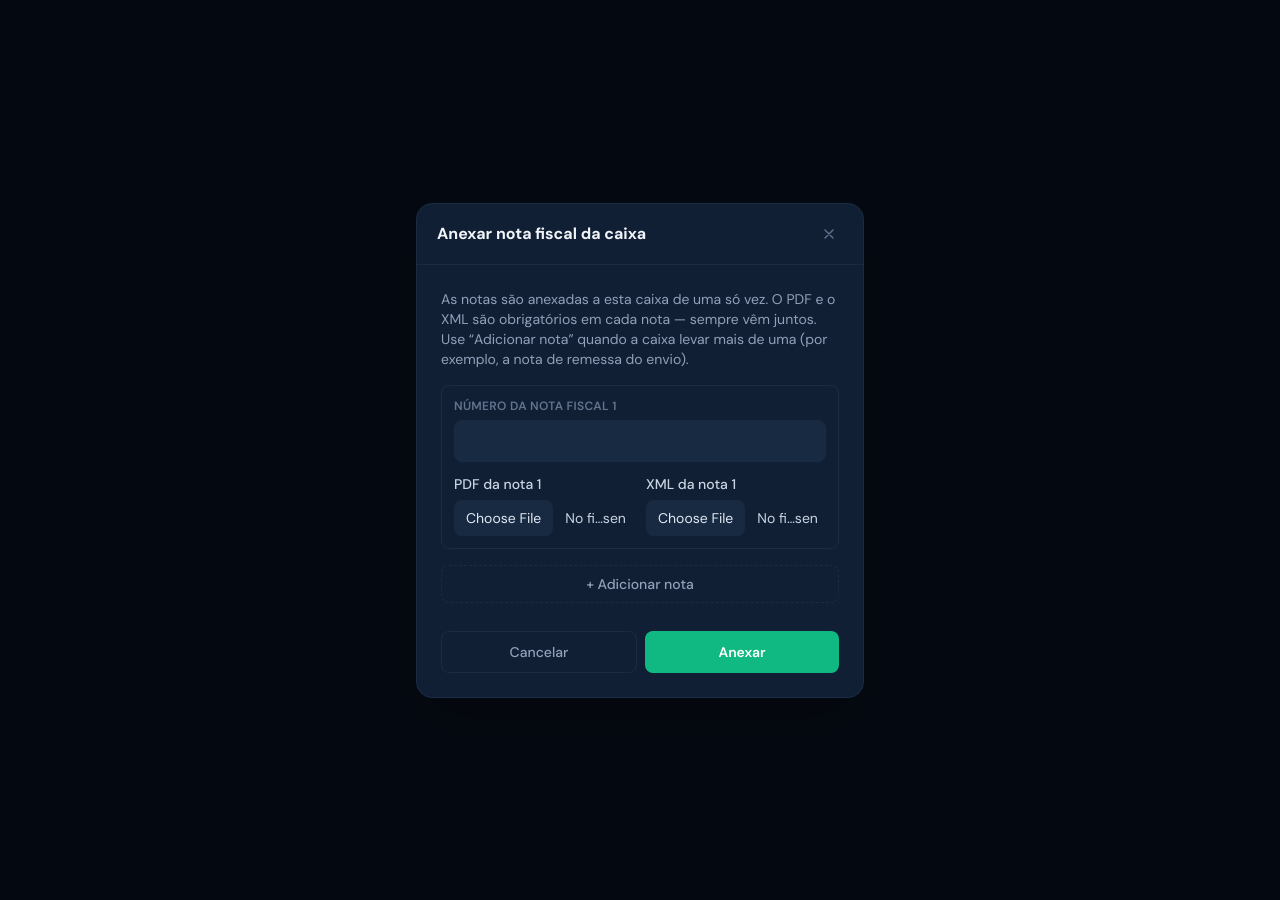
Test case: NotaFiscalCaixaModal › o + acrescenta um bloco e o X tira
What coordinates should you click on to do the following:
click the button "+ Adicionar nota"
I would click on:
 (640, 584)
Its box is [441,564,839,602].
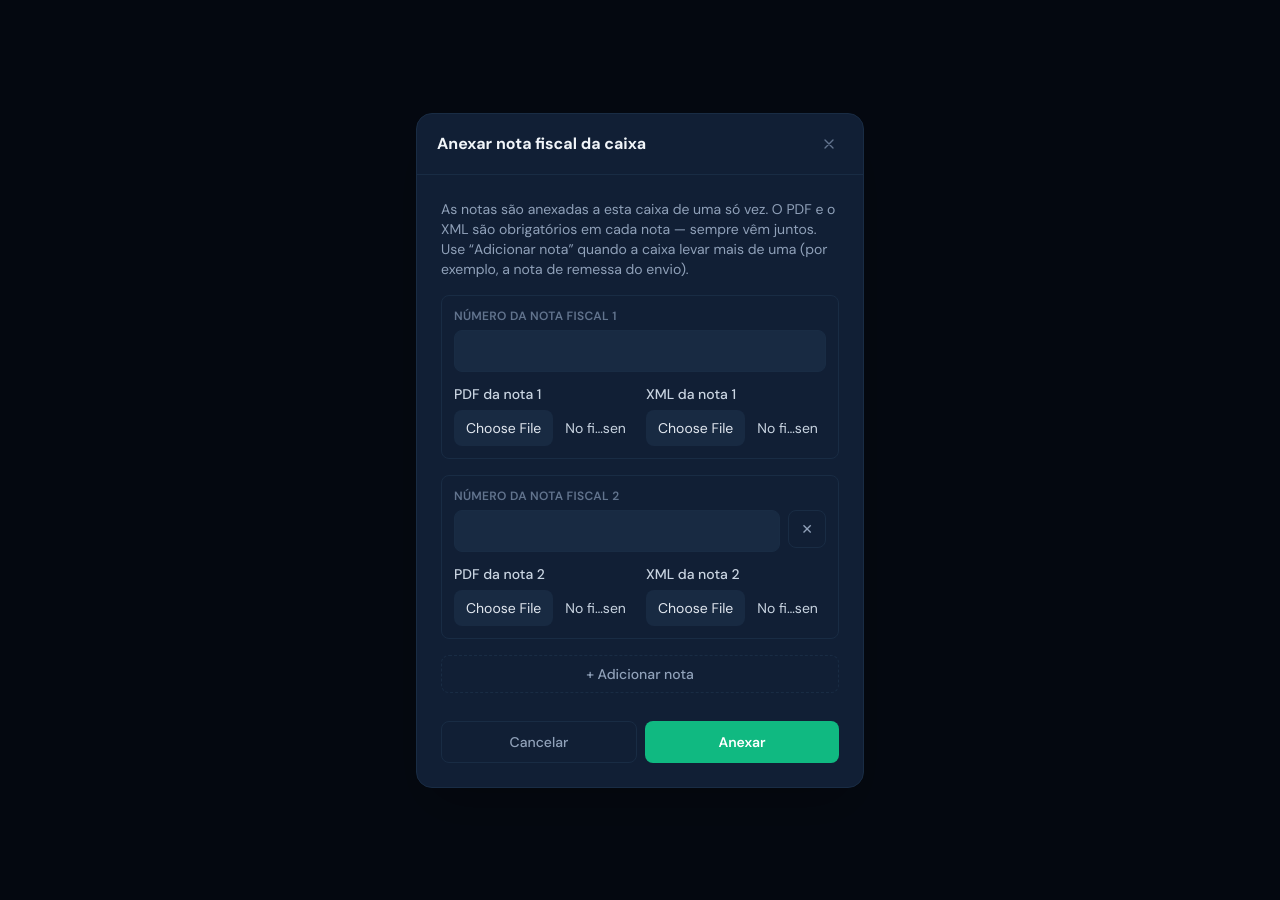
What coordinates should you click on to do the following:
click the button named "remover nota 2"
I would click on:
 (807, 528)
Its box is [788,510,826,548].
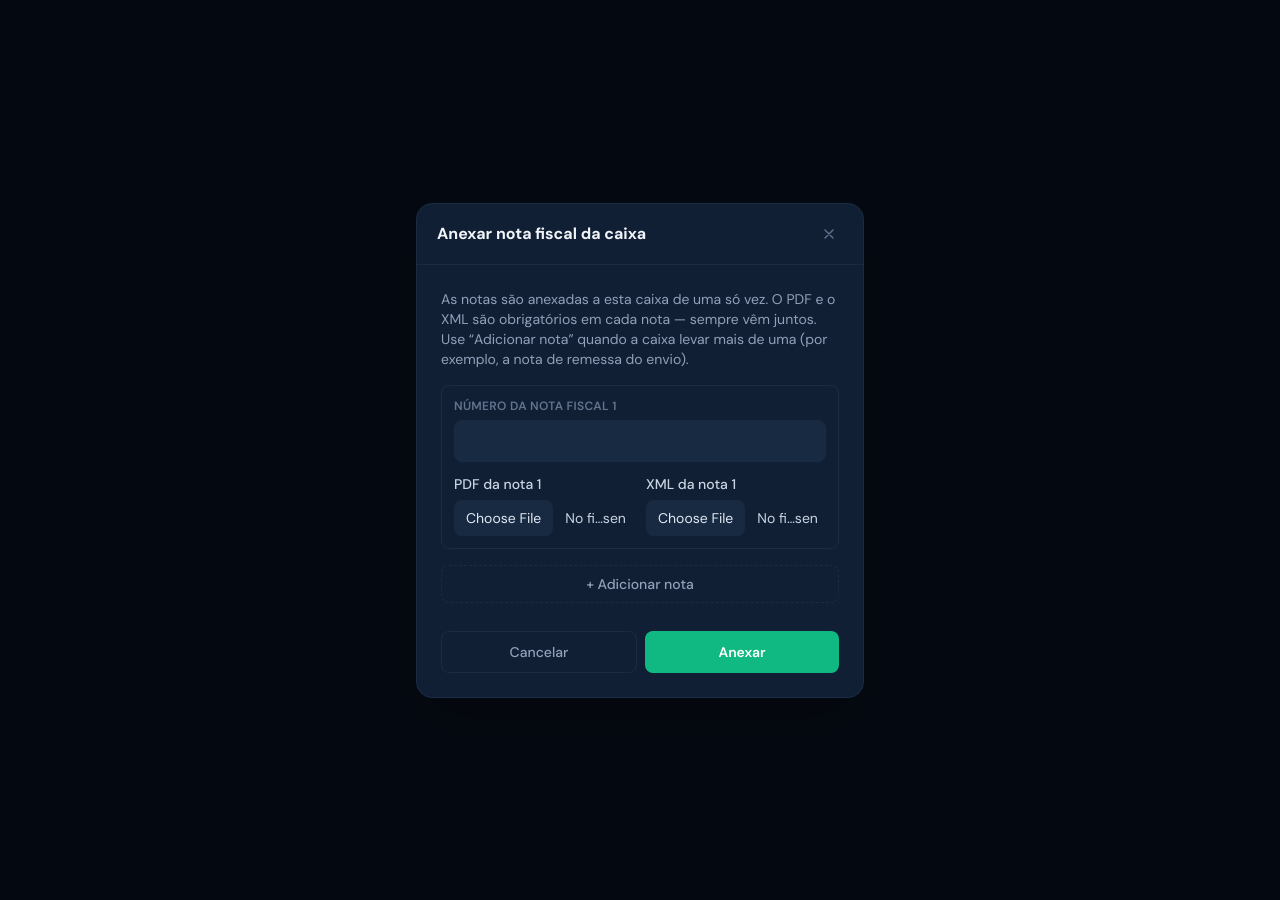
Result: the label labelled "Número da nota fiscal 2" is gone
